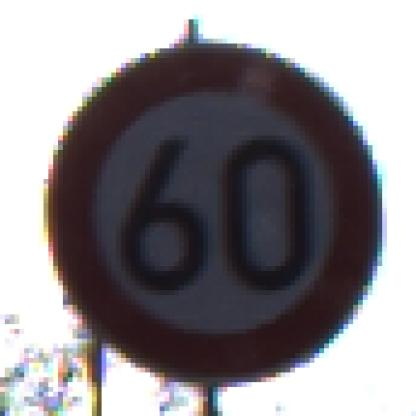Speed Limit 60: (52, 44, 378, 381)
